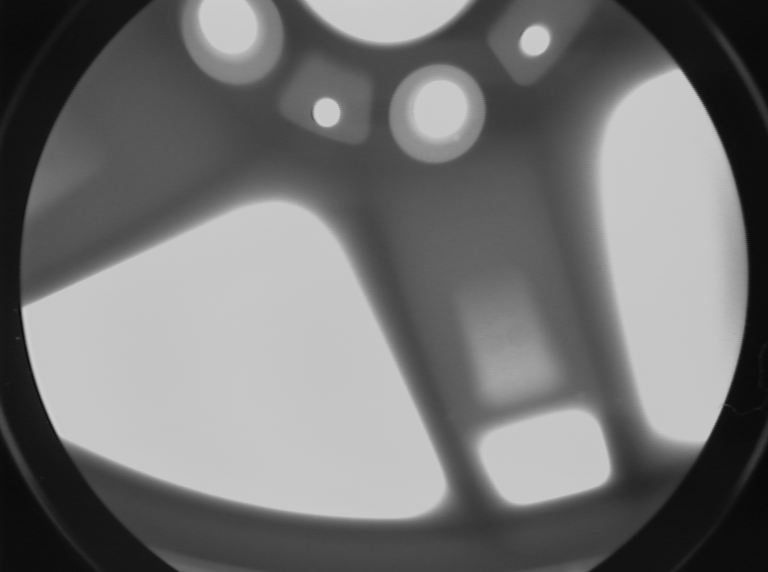defect: (440, 407, 460, 429)
